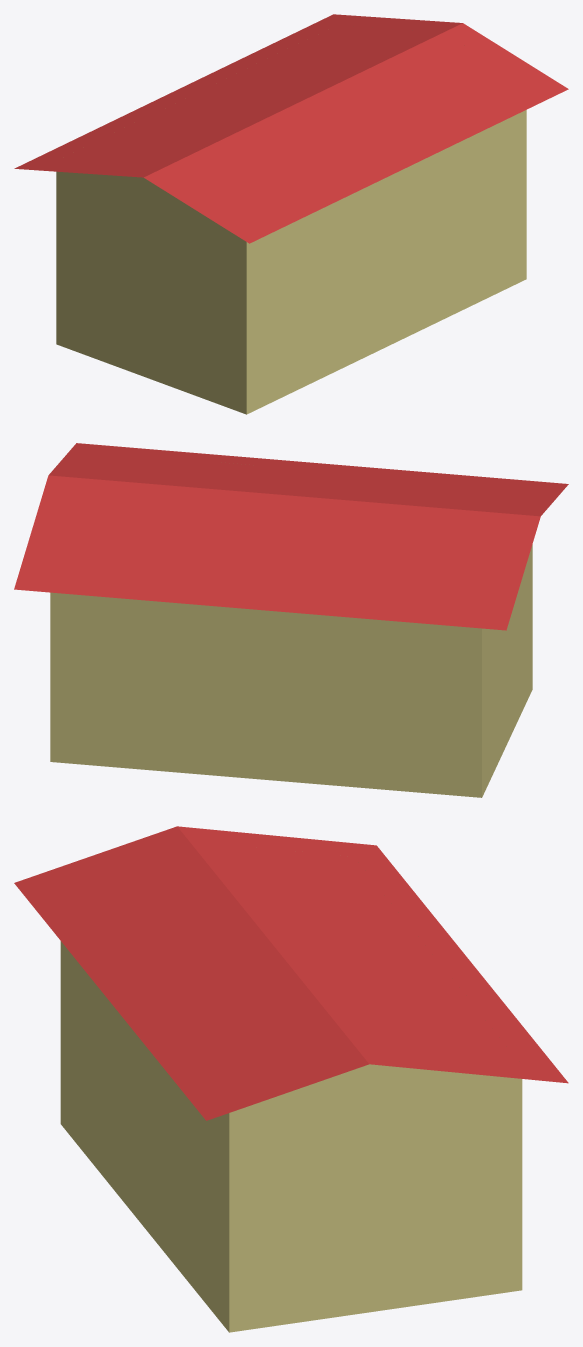
The picture shows the model from 3 angles, top to bottom: view 1: azimuth 30°, elevation 25°; view 2: azimuth 150°, elevation 25°; view 3: azimuth 270°, elevation 25°; orthographic projection. The views are drawn at different scales.
Bounding box in the file's own units: 18.7 × 15.11 × 7.95.
